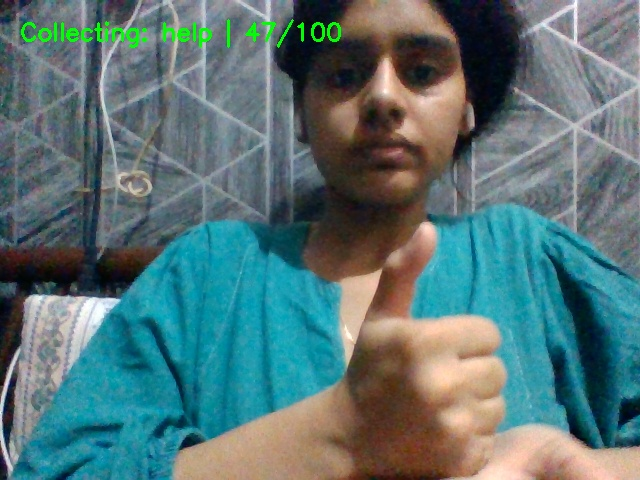help: (309, 214, 631, 480)
